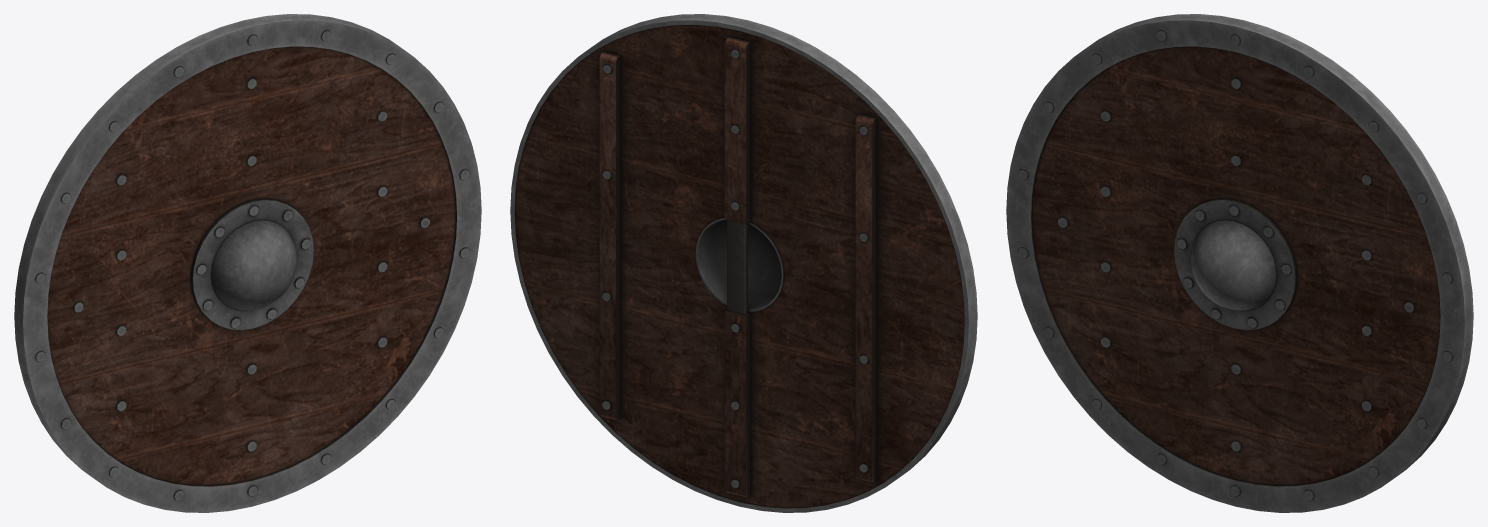
Rendered from Schild.dae.
3 renders of one model, left to right at view 1: azimuth 30°, elevation 25°; view 2: azimuth 150°, elevation 25°; view 3: azimuth 330°, elevation 25°, orthographic.
Visible parts, largest first — view 1: Schild_High; view 2: Schild_High; view 3: Schild_High.
Part boxes in pixels (x1=…): Schild_High: x1=14, y1=14, x2=481, y2=512; Schild_High: x1=510, y1=14, x2=977, y2=512; Schild_High: x1=1006, y1=14, x2=1473, y2=512.
Bounding box in the file's own units: 0.85 × 0.105 × 0.85.
1 material, 1 textured.
